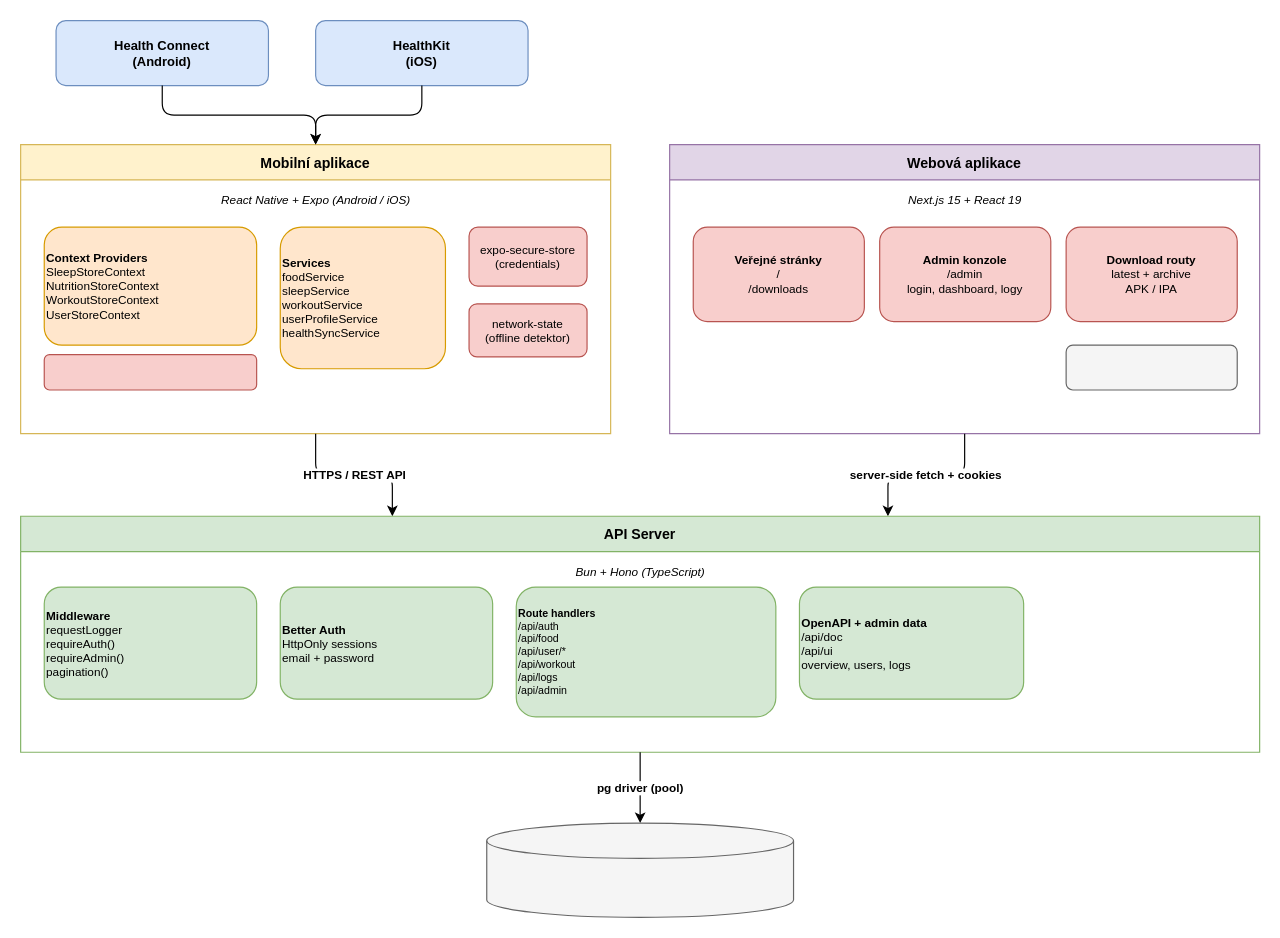
This 1280x938 diagram has some shape labels left out. Here are the shapes that lost their labels. From the top down, the centre of each, then its label:
At pixel 150 371: "lokální cache: MMKV".
At pixel 1151 367: "read-only mounty APK + IPA storage".
At pixel 640 869: "PostgreSQL 17 (pg_trgm, USDA FoodData Central)".
